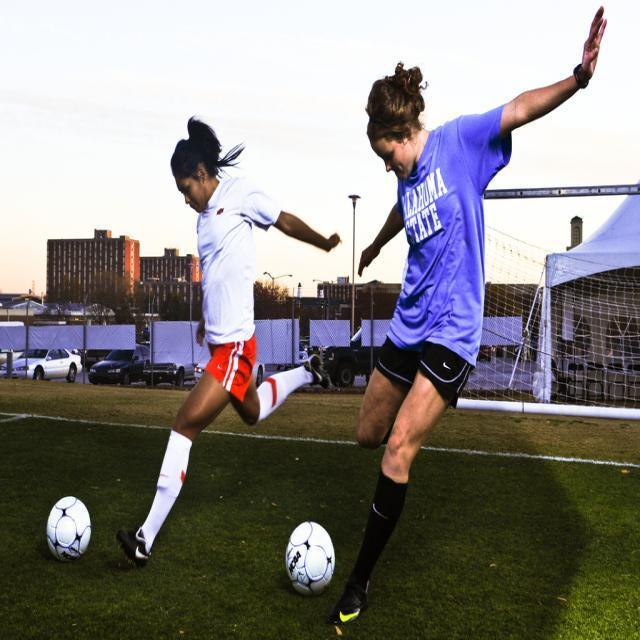football: (265, 513, 353, 595), (29, 497, 106, 577)
